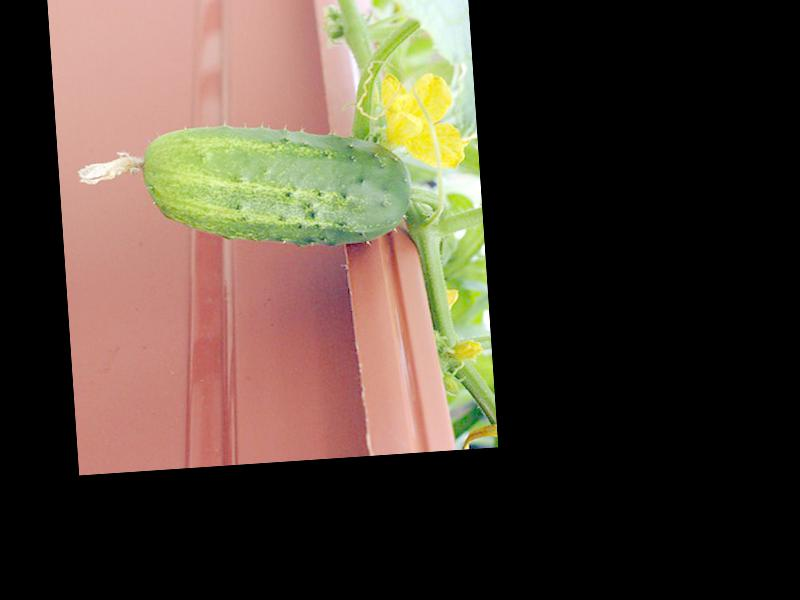Cucumber: (73, 112, 415, 261)
